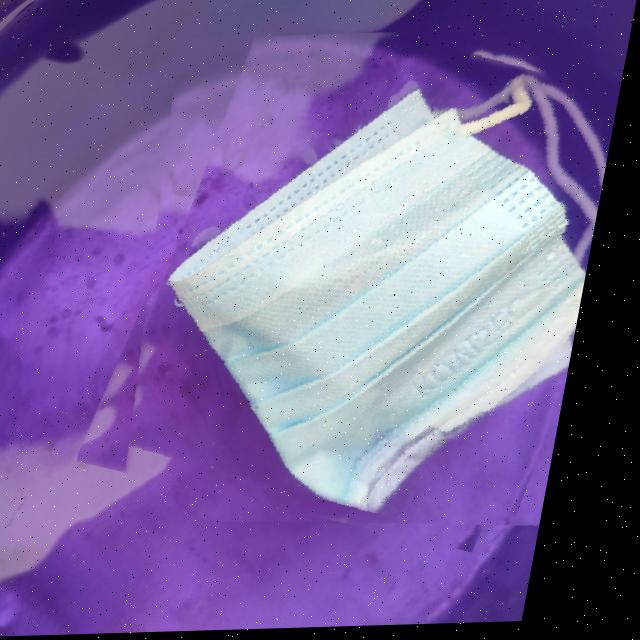litter: (107, 29, 634, 542)
